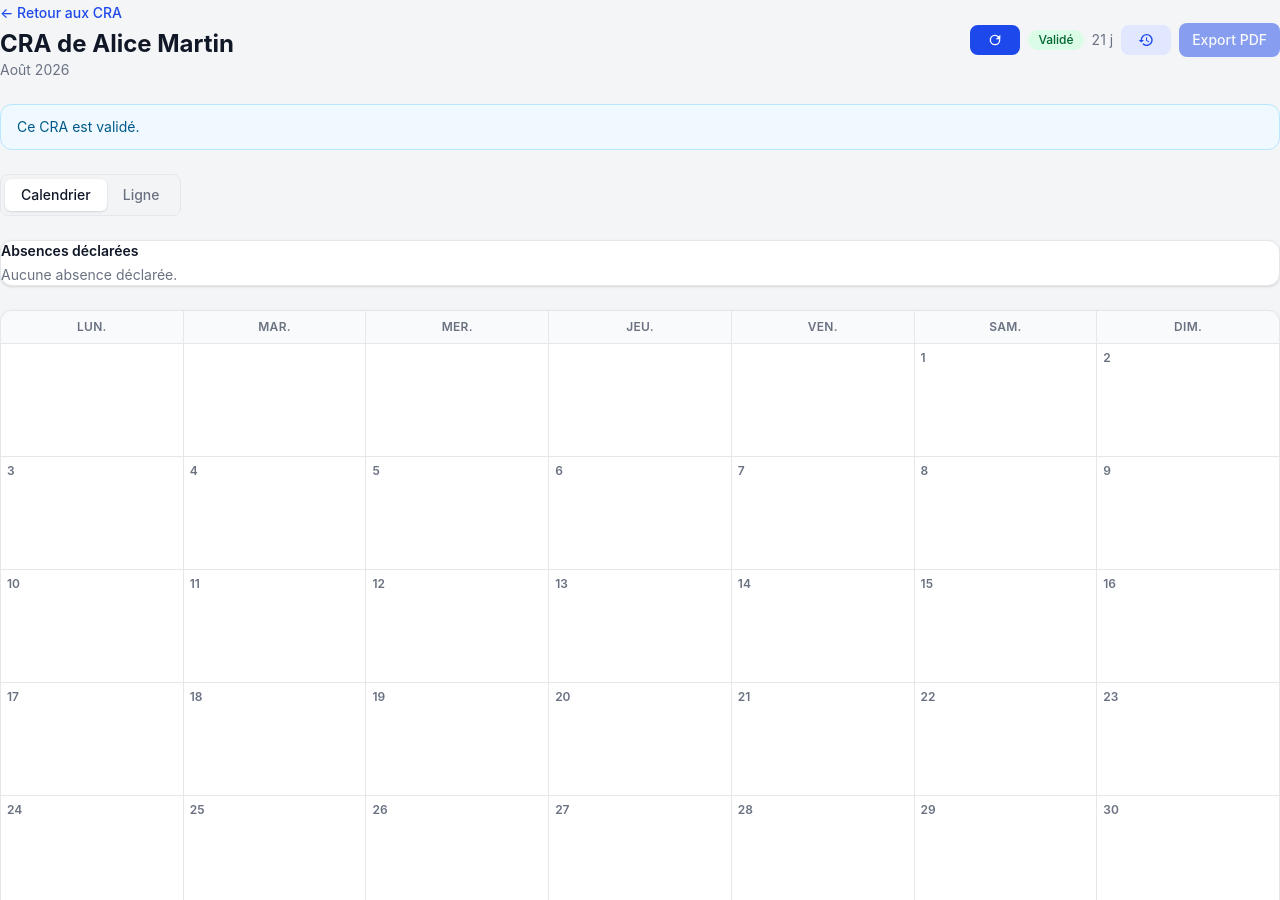
CraDetail › affiche l’historique des modifications du CRA
Expected: the heading "CRA de Alice Martin" is shown, [0,28,234,60]
Click the button named "Historique": point(1146, 40) [1121,25,1171,55]
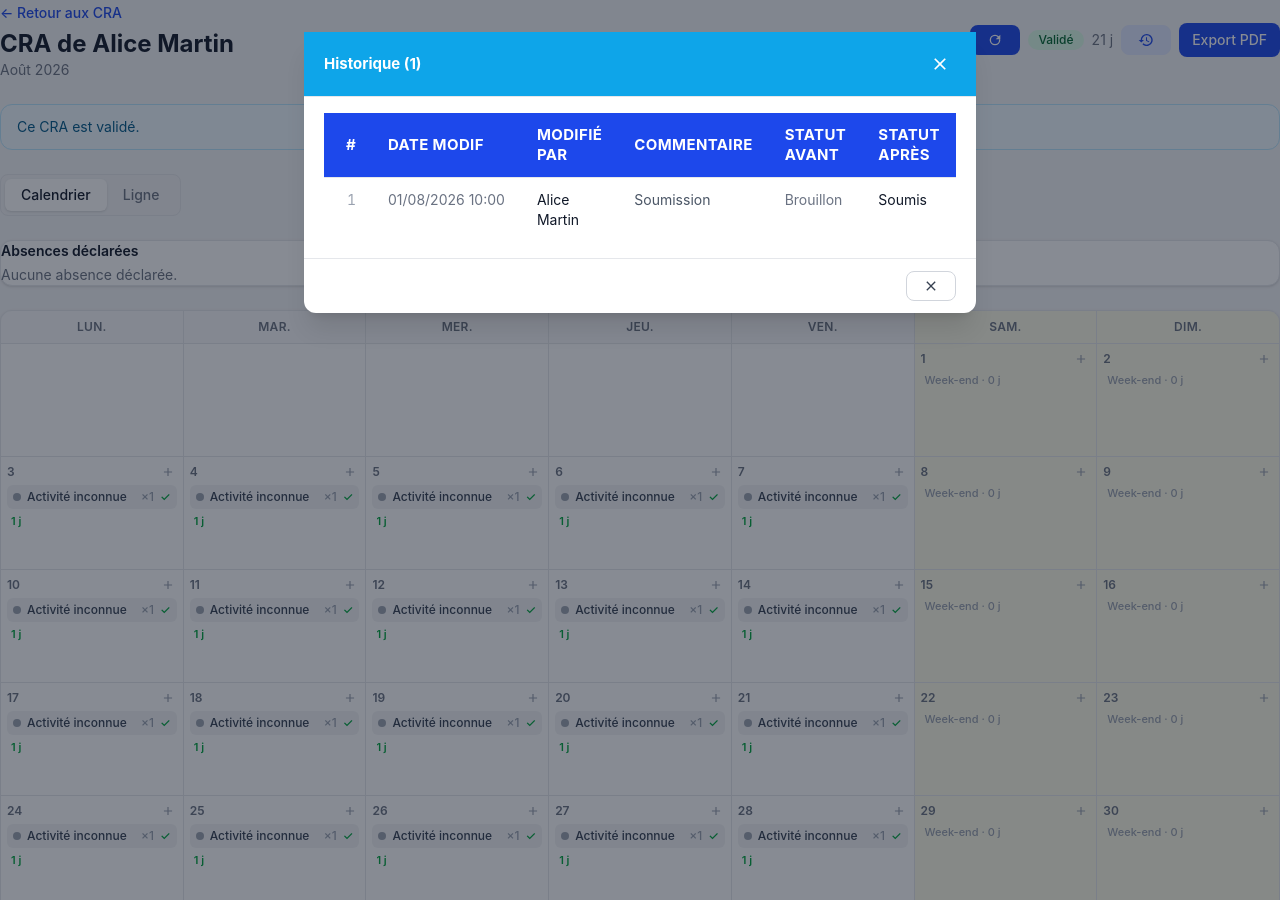
Result: the text "Soumission" is shown at [618,178,769,242]
Result: the text "Brouillon" is shown at [769,178,862,242]
Result: the text "Soumis" is shown at [862,178,956,242]
